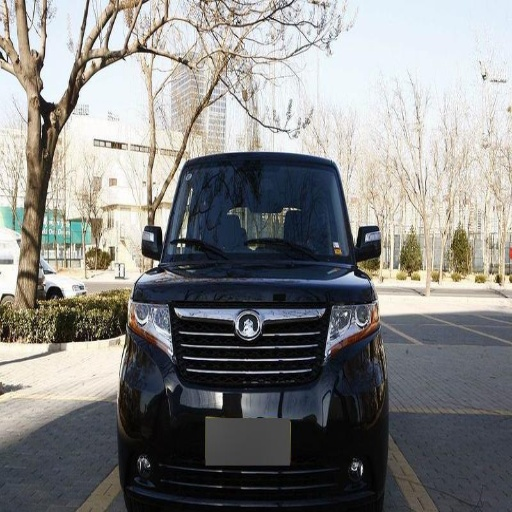front_bumper: (120, 303, 379, 511)
front_right_light: (129, 294, 171, 345)
hood: (140, 244, 373, 305)
